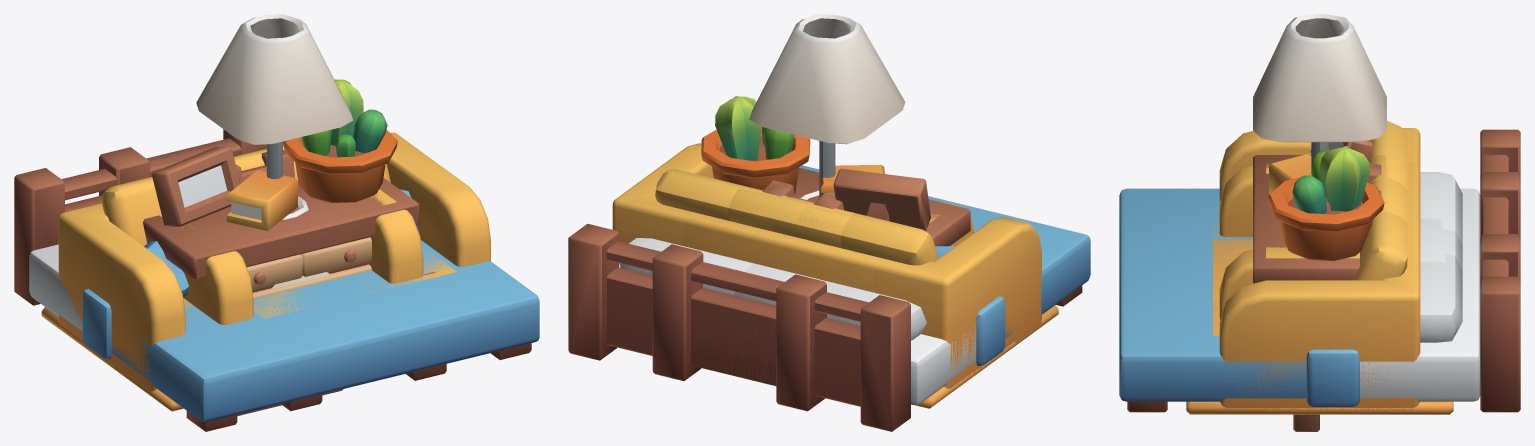
File: bedroom.glb
3 renders of one model, left to right at view 1: azimuth 30°, elevation 25°; view 2: azimuth 150°, elevation 25°; view 3: azimuth 270°, elevation 25°, orthographic. The views are drawn at different scales.
Parts seen in each view (by area): view 1: bed_double_A, cabinet_medium_decorated, couch_pillows, lamp_standing, armchair_pillows, bed_single_A, rug_rectangle_stripes_A, chair_A; view 2: bed_double_A, couch_pillows, bed_single_A, lamp_standing, cabinet_medium_decorated, armchair_pillows, rug_rectangle_stripes_A, chair_A; view 3: bed_double_A, couch_pillows, cabinet_medium_decorated, lamp_standing, armchair_pillows, bed_single_A, rug_rectangle_stripes_A, rug_oval_A, pictureframe_large_A.
Part boxes in pixels (x1,y1,x2,y2): bed_double_A: [14, 138, 539, 431]; cabinet_medium_decorated: [143, 79, 419, 298]; couch_pillows: [58, 132, 490, 393]; lamp_standing: [196, 14, 353, 178]; armchair_pillows: [159, 144, 423, 324]; bed_single_A: [99, 129, 450, 411]; rug_rectangle_stripes_A: [41, 307, 183, 411]; chair_A: [236, 150, 294, 183]; bed_double_A: [568, 165, 1090, 431]; couch_pillows: [612, 143, 1041, 388]; bed_single_A: [652, 244, 826, 411]; lamp_standing: [749, 14, 905, 197]; cabinet_medium_decorated: [701, 96, 970, 246]; armchair_pillows: [683, 188, 973, 292]; rug_rectangle_stripes_A: [914, 305, 1058, 408]; chair_A: [762, 180, 844, 210]; bed_double_A: [1119, 129, 1520, 412]; couch_pillows: [1213, 121, 1420, 410]; cabinet_medium_decorated: [1253, 140, 1384, 283]; lamp_standing: [1253, 14, 1386, 174]; armchair_pillows: [1213, 155, 1420, 319]; bed_single_A: [1120, 172, 1520, 314]; rug_rectangle_stripes_A: [1186, 401, 1453, 414]; rug_oval_A: [1279, 408, 1360, 414]; pictureframe_large_A: [1293, 414, 1319, 431].
Bounding box in the file's own units: 3.1 × 3.12 × 3.
1 material, 1 textured.
